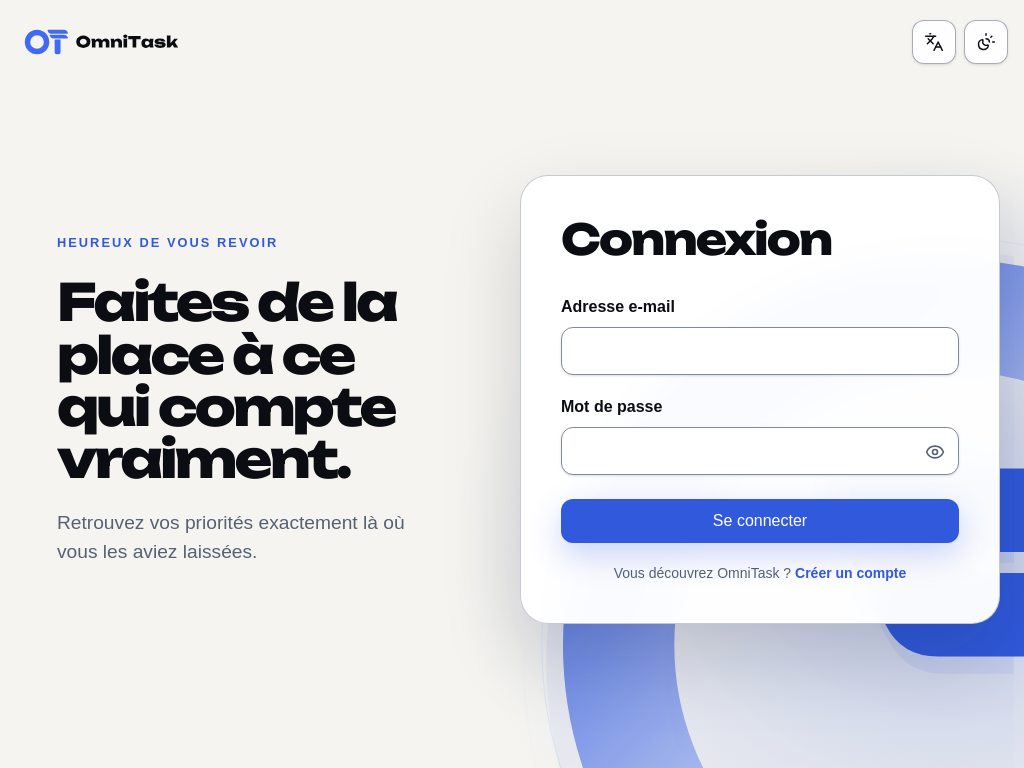
Test: login flow › shows localized field errors and focuses email on invalid login
Click the button "Se connecter" at (760, 522), box [561,500,959,544]
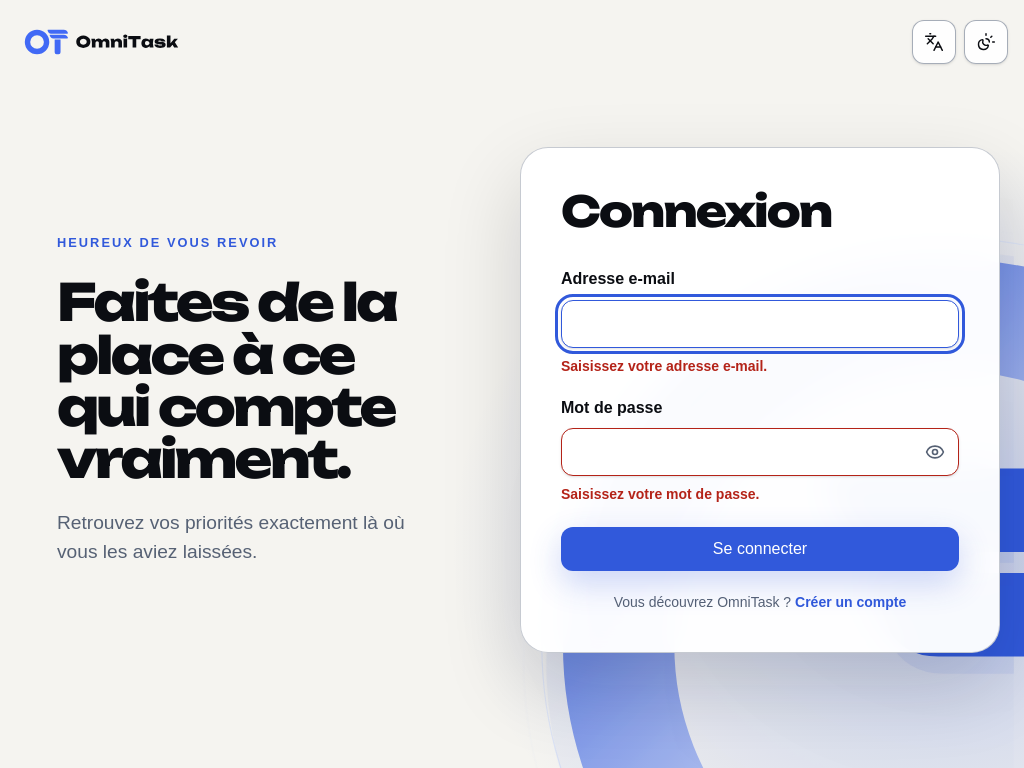
Expected: the text "Saisissez votre adresse e-mail." is shown, [561,358,767,374]
